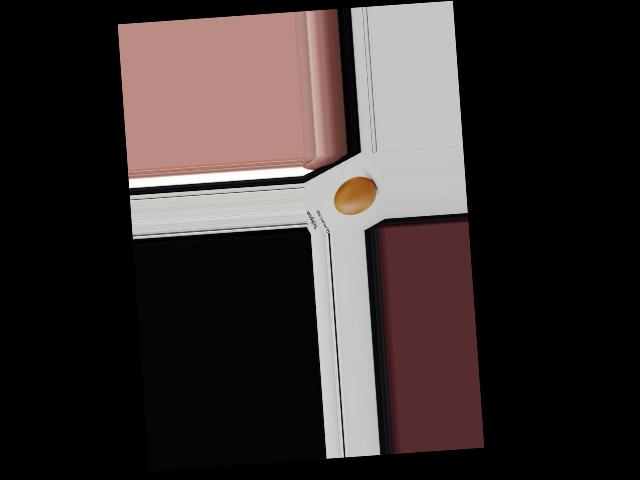egg: (332, 175, 378, 215)
